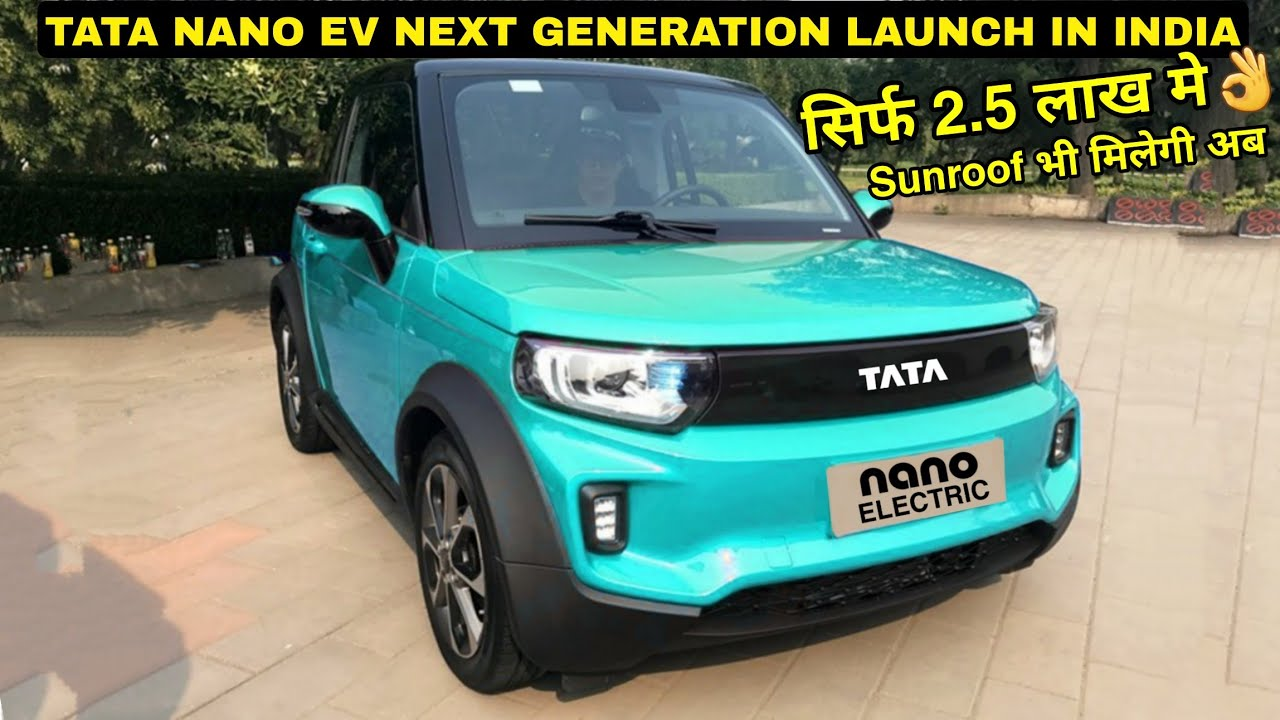Nano: (265, 59, 1086, 698)
